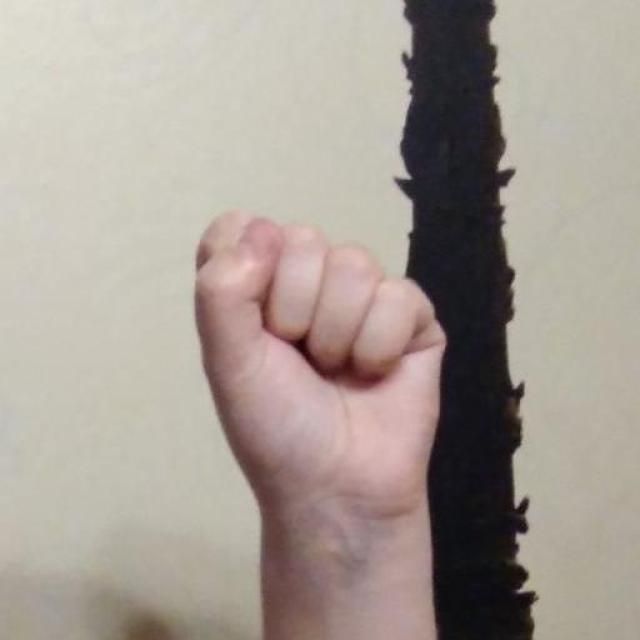hand: (192, 205, 532, 639)
